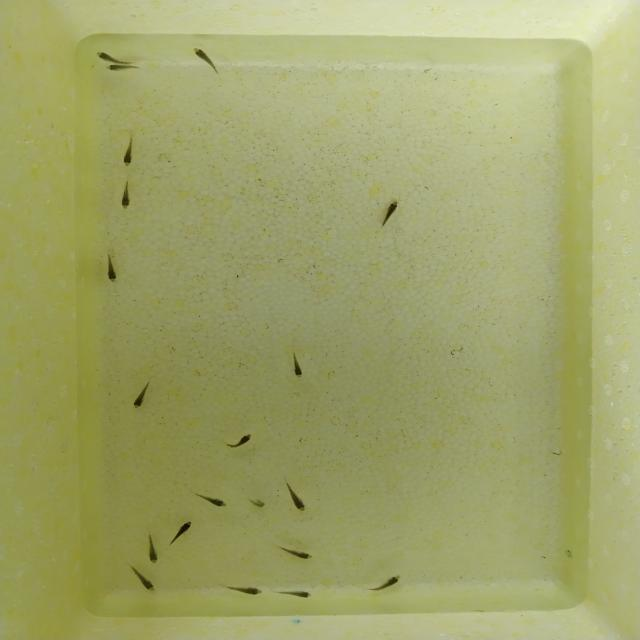fingerling: (125, 383, 155, 413), (286, 488, 314, 513), (115, 179, 137, 209), (378, 198, 402, 225), (173, 516, 196, 540), (287, 356, 308, 382), (104, 257, 120, 290), (378, 571, 402, 593), (136, 571, 158, 594), (195, 496, 231, 509), (277, 550, 327, 559), (281, 589, 321, 600), (123, 138, 137, 169), (233, 429, 254, 449), (146, 536, 160, 566), (196, 49, 214, 68), (230, 585, 262, 595), (105, 62, 134, 72), (92, 51, 118, 62)
